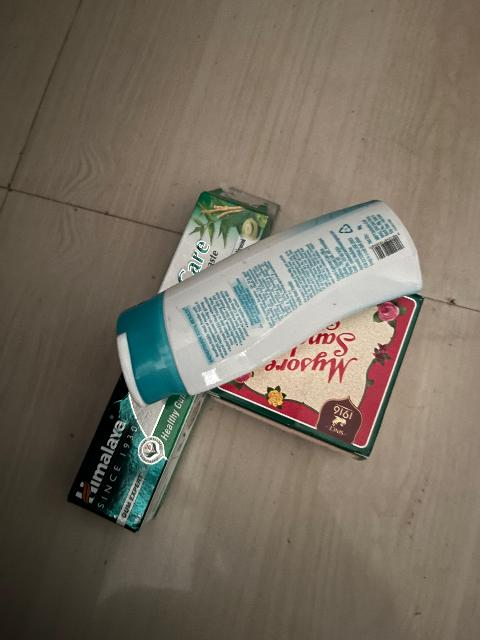boroplus: (108, 198, 464, 399)
himalaya toothpaste: (55, 400, 202, 534)
mysore sandal soap: (228, 293, 418, 463)
